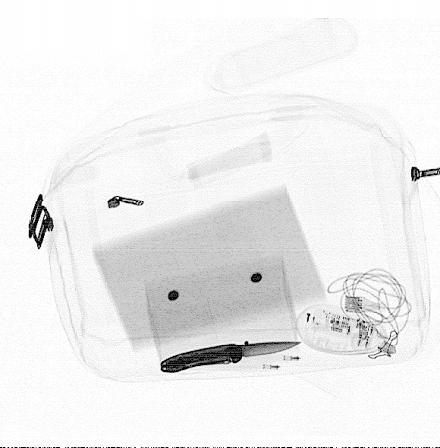Knife: (157, 340, 304, 375)
